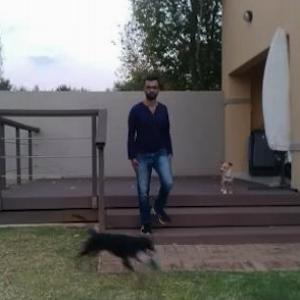follow: (126, 75, 172, 260)
